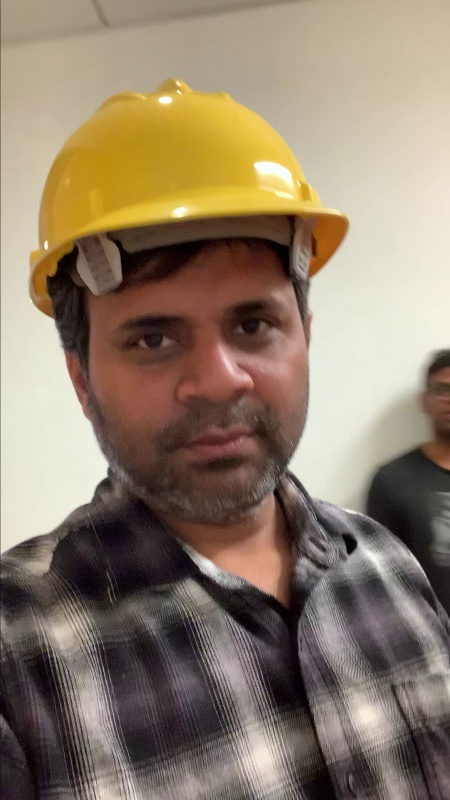helmet: (31, 71, 338, 228)
